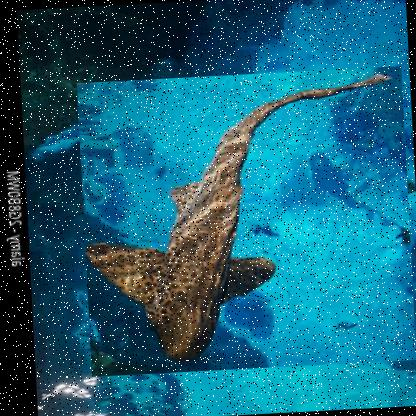zebra_shark: (74, 64, 415, 376)
